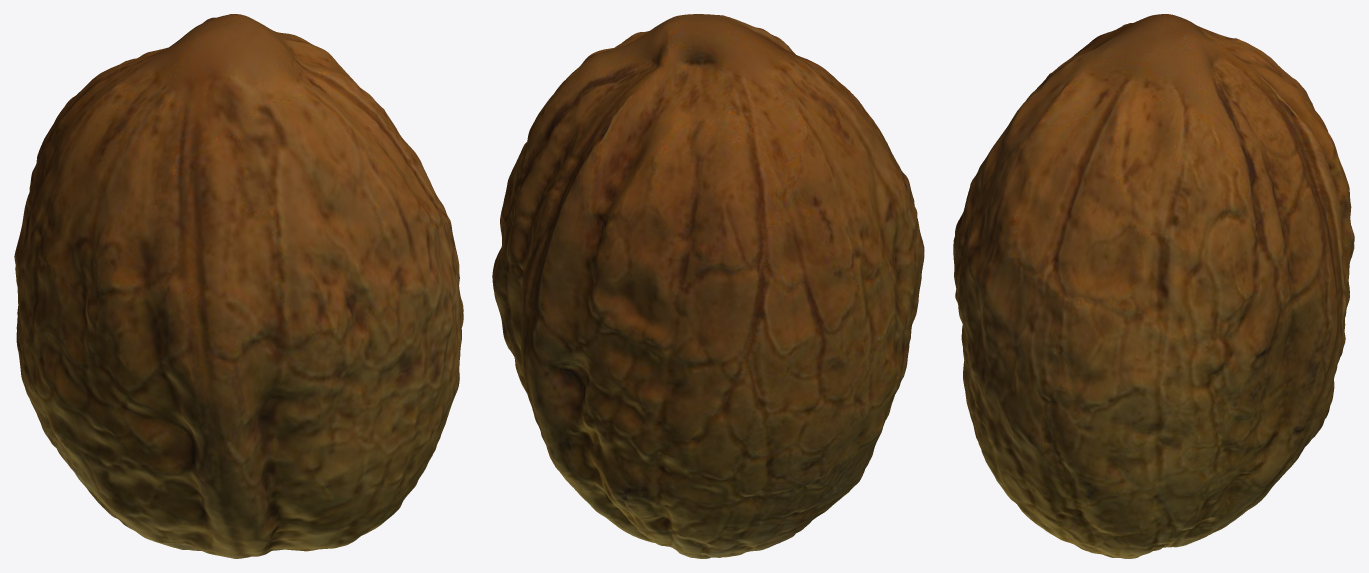
The picture shows the model from 3 angles, left to right: view 1: azimuth 30°, elevation 25°; view 2: azimuth 150°, elevation 25°; view 3: azimuth 270°, elevation 25°; orthographic projection. The views are drawn at different scales.
Parts seen in each view (by area): view 1: Object_2, Object_3; view 2: Object_2, Object_3; view 3: Object_2, Object_3.
Boxes of the visible parts, box(x1,y1,x2,y2) form: Object_2: box(16, 14, 463, 555); Object_3: box(14, 173, 317, 558); Object_2: box(492, 14, 924, 544); Object_3: box(540, 140, 916, 558); Object_2: box(953, 14, 1354, 558); Object_3: box(1163, 100, 1354, 547).
Size of the model in its own units: 0.0248 by 0.033 by 0.0235.
1 material, 1 textured.
